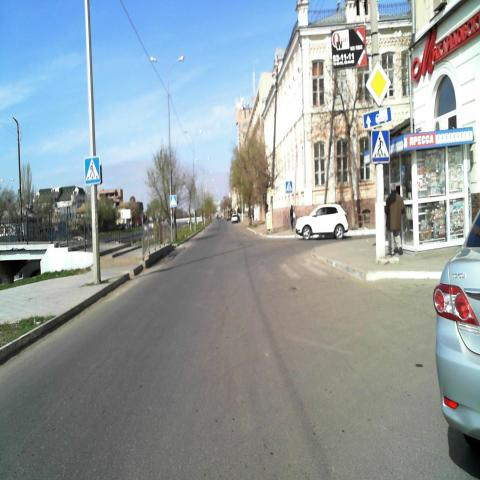6_15_1: (362, 106, 391, 128)
